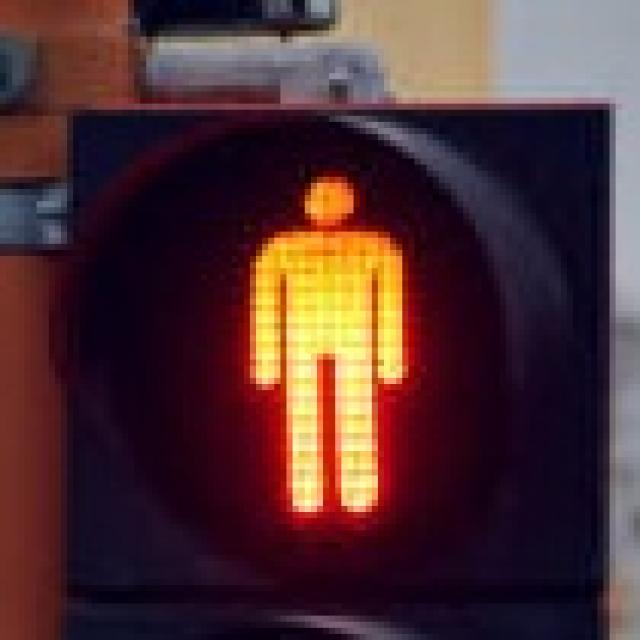red_light: (220, 152, 420, 518)
